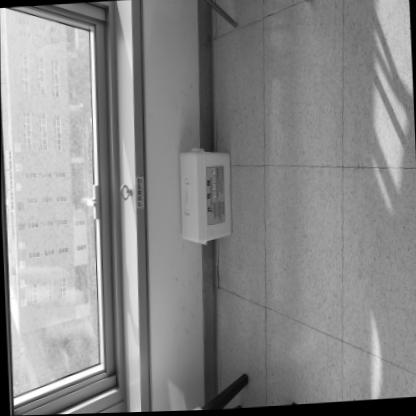DDL: (178, 146, 234, 243)
